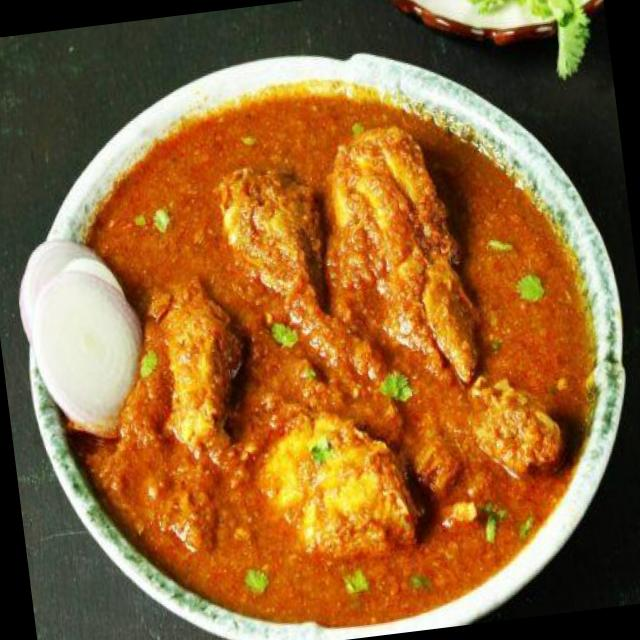chicken: (13, 75, 627, 632)
